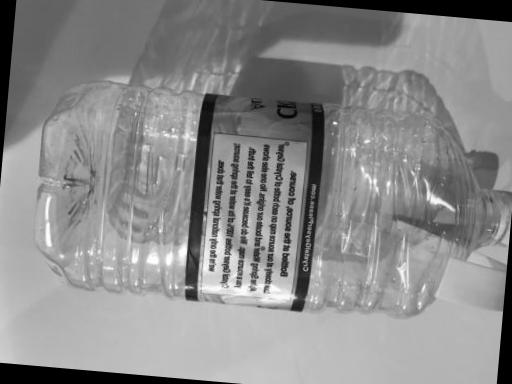plastic: (0, 60, 512, 346)
